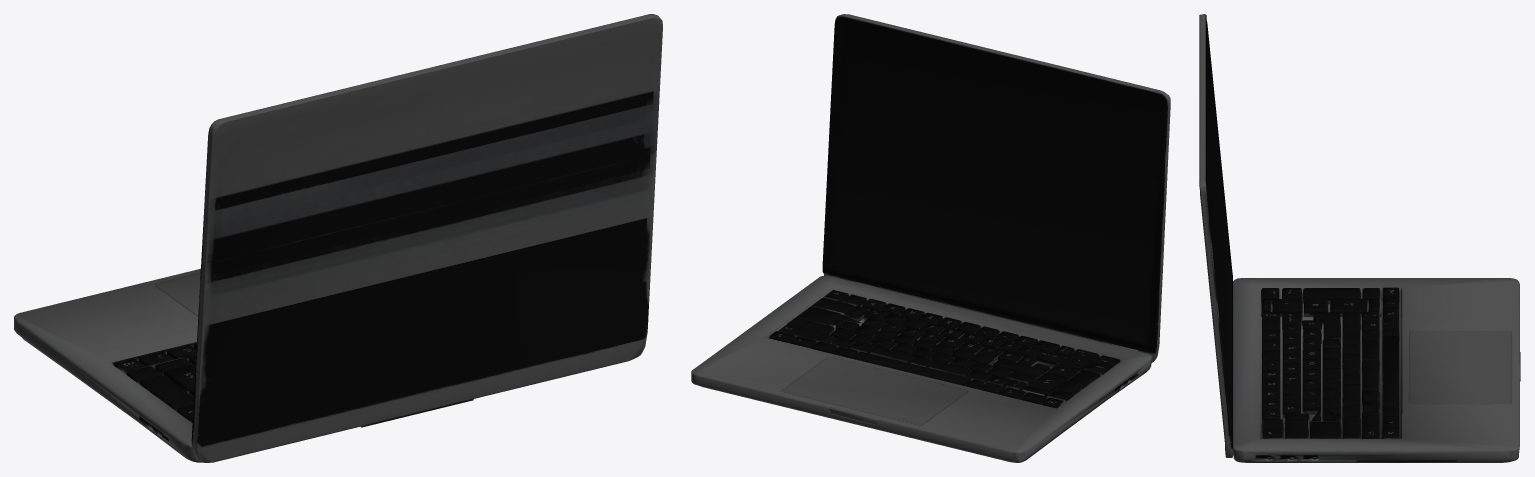
Rendered from laptop-partum.glb.
3 views of the same model, side by side, from view 1: azimuth 30°, elevation 25°; view 2: azimuth 150°, elevation 25°; view 3: azimuth 270°, elevation 25° (orthographic). The views are drawn at different scales.
Parts seen in each view (by area): view 1: tripo_node_0f10463b-5cdf-436d-95cf-f3725f302093; view 2: tripo_node_0f10463b-5cdf-436d-95cf-f3725f302093; view 3: tripo_node_0f10463b-5cdf-436d-95cf-f3725f302093.
Part boxes in pixels (x1=…): tripo_node_0f10463b-5cdf-436d-95cf-f3725f302093: x1=14, y1=14, x2=662, y2=462; tripo_node_0f10463b-5cdf-436d-95cf-f3725f302093: x1=691, y1=14, x2=1170, y2=462; tripo_node_0f10463b-5cdf-436d-95cf-f3725f302093: x1=1199, y1=14, x2=1520, y2=462.
Bounding box in the file's own units: 0.2627 × 0.2 × 0.2062.
1 material, 1 textured.
